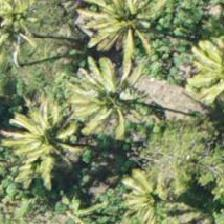coconut_tree: (65, 56, 155, 146), (4, 97, 94, 187), (76, 0, 166, 69), (0, 0, 46, 76)
